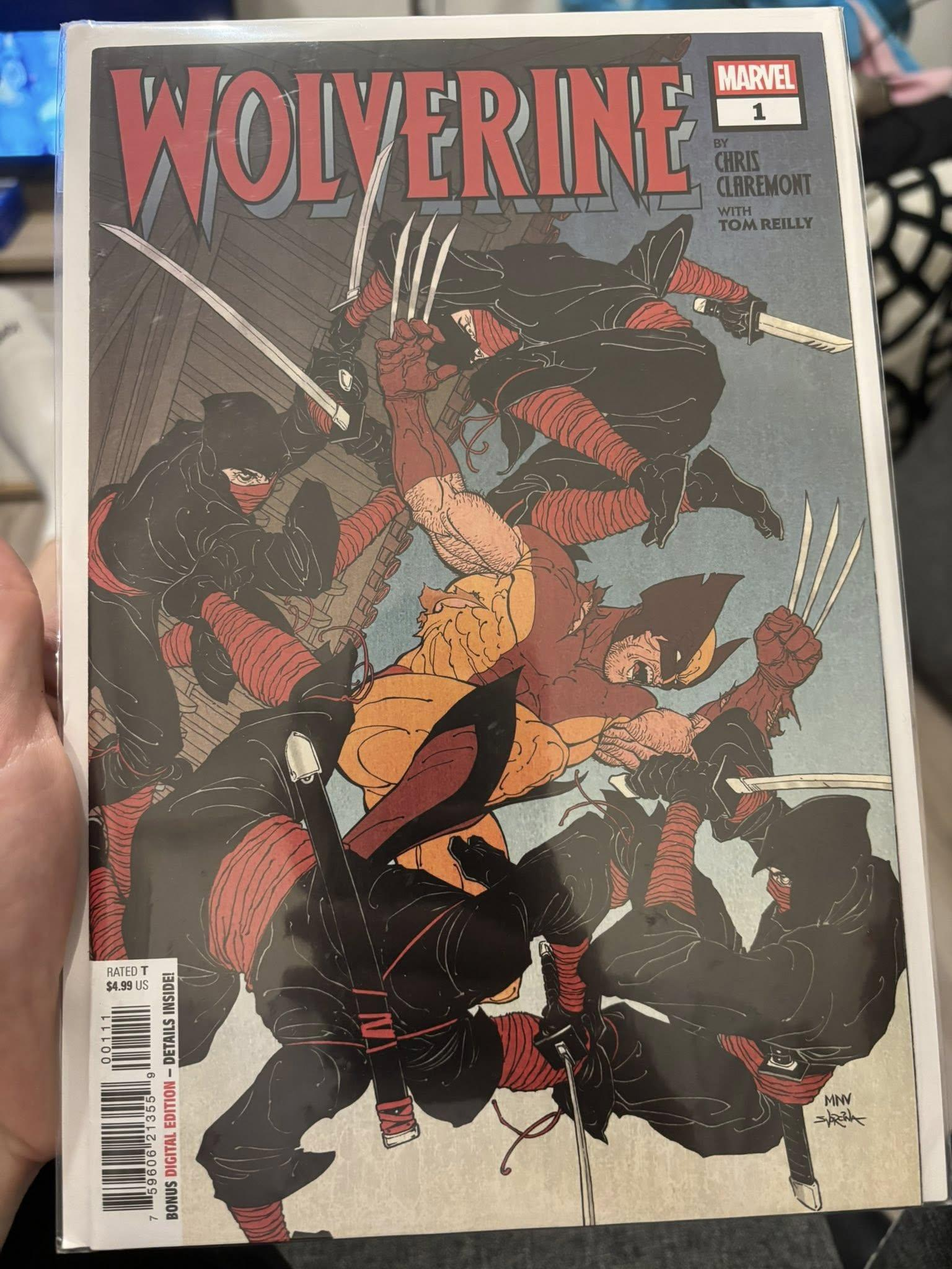comic: (35, 7, 945, 1248)
